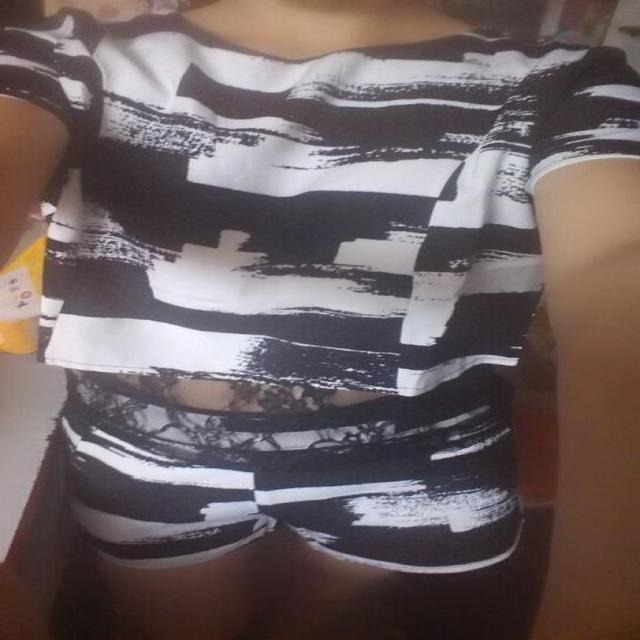short-sleeve-dress: (28, 9, 536, 564)
